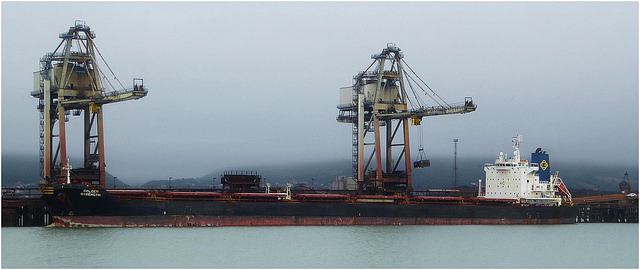bulk carrier: (53, 136, 578, 230)
